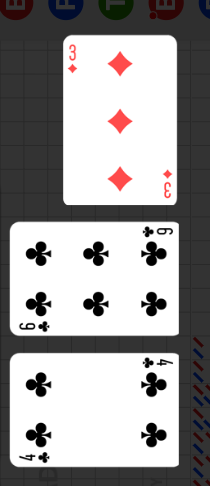4C: (17, 451, 51, 465)
6C: (140, 226, 175, 240)
6D: (66, 44, 78, 76)
